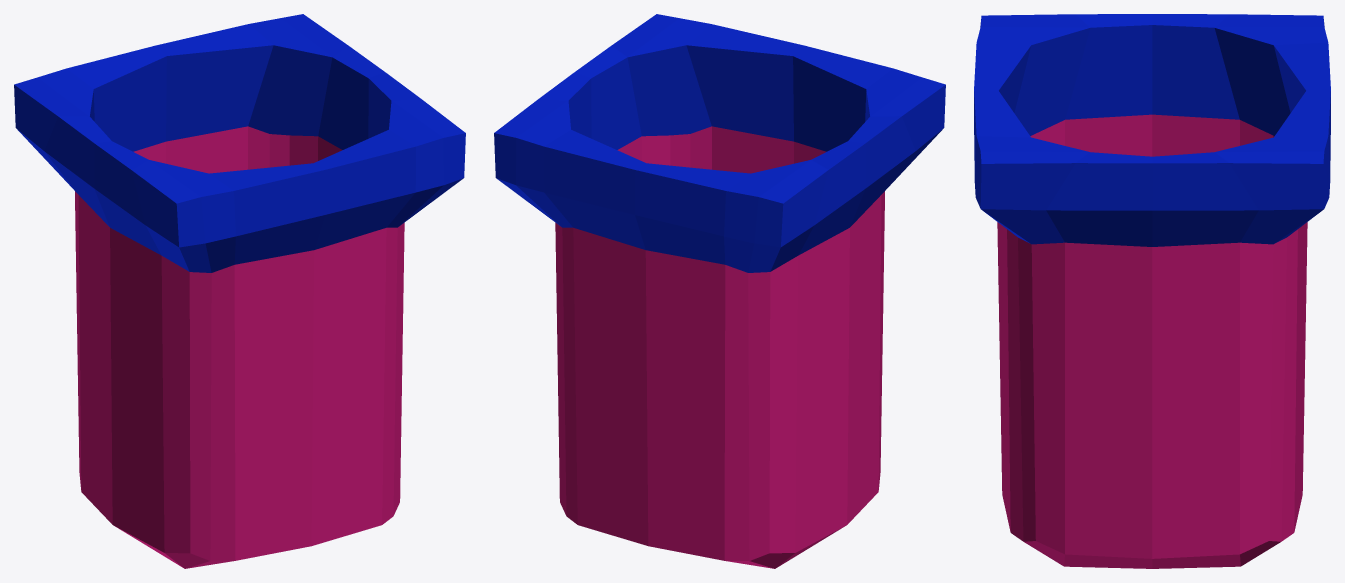
File: TONG SAMPAH.fbx
3 views of the same model, side by side, from view 1: azimuth 30°, elevation 25°; view 2: azimuth 150°, elevation 25°; view 3: azimuth 270°, elevation 25° (orthographic). The views are drawn at different scales.
Visible parts, largest first — view 1: Cube; view 2: Cube; view 3: Cube.
Part boxes in pixels (x1,y1,x2,y2): Cube: [14, 14, 465, 568]; Cube: [494, 14, 945, 568]; Cube: [974, 14, 1330, 568].
Bounding box in the file's own units: 246 × 328 × 248.
